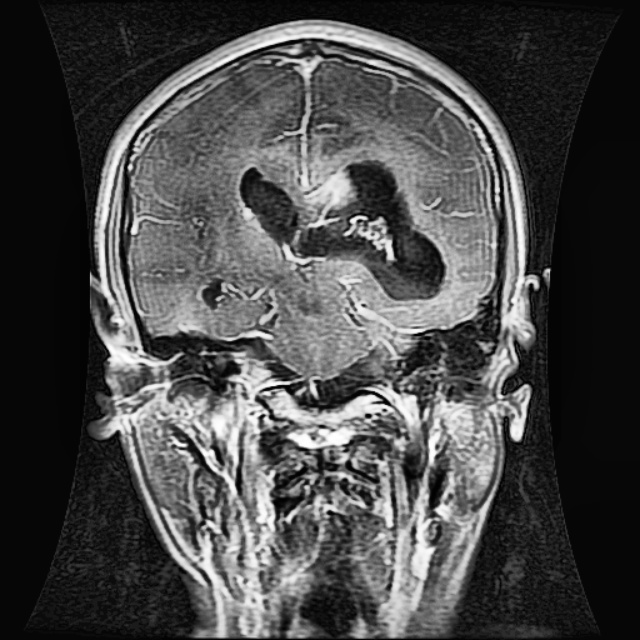Meningioma: (235, 157, 449, 304)
